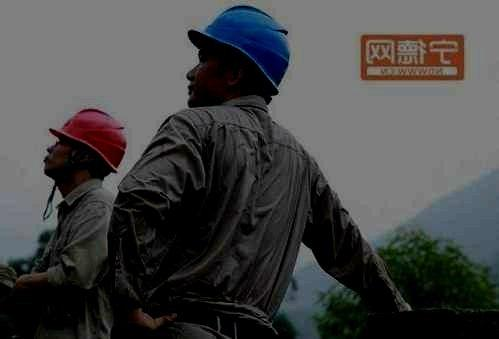helmet: (185, 3, 292, 108), (43, 107, 128, 180)
